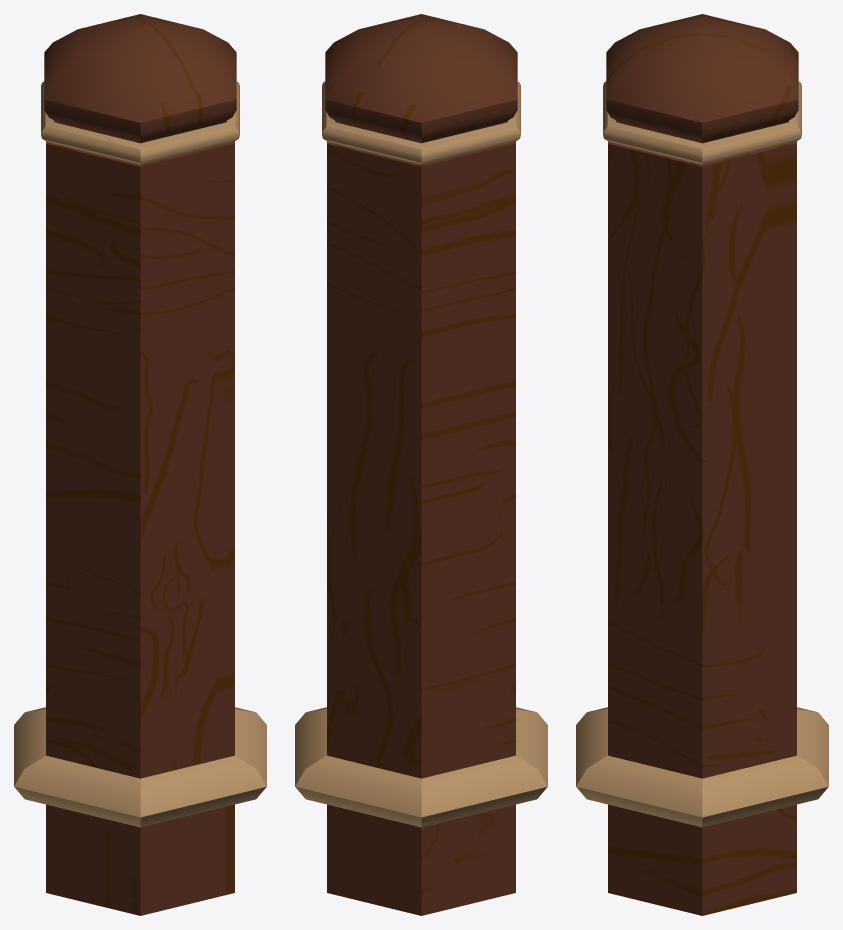
File: PoleBridge.FBX
3 views of the same model, side by side, from view 1: azimuth 30°, elevation 25°; view 2: azimuth 150°, elevation 25°; view 3: azimuth 270°, elevation 25° (orthographic).
Parts seen in each view (by area): view 1: PoleBridge; view 2: PoleBridge; view 3: PoleBridge.
Boxes of the visible parts, x1=… form: PoleBridge: x1=14, y1=14, x2=266, y2=915; PoleBridge: x1=295, y1=14, x2=547, y2=915; PoleBridge: x1=576, y1=14, x2=828, y2=915.
Bounding box in the file's own units: 26.74 × 85.16 × 23.16.
